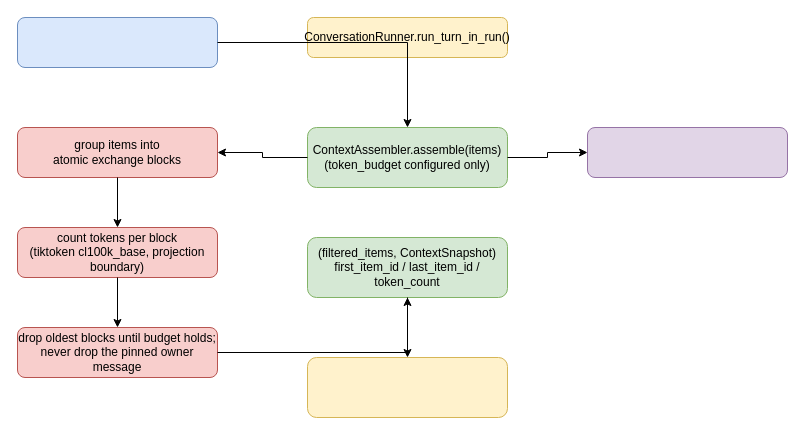
This 805x435 diagram has some shape labels left out. Here are the shapes that lost their labels. From the top down, the centre of each, then its label:
At point 117,42: "load all items (ConversationRepository.load_items)".
At point 687,152: "notebook (exact history) stays untouched in the DB".
At point 407,387: "items_to_messages(filtered) + run_turn(history=...)".
